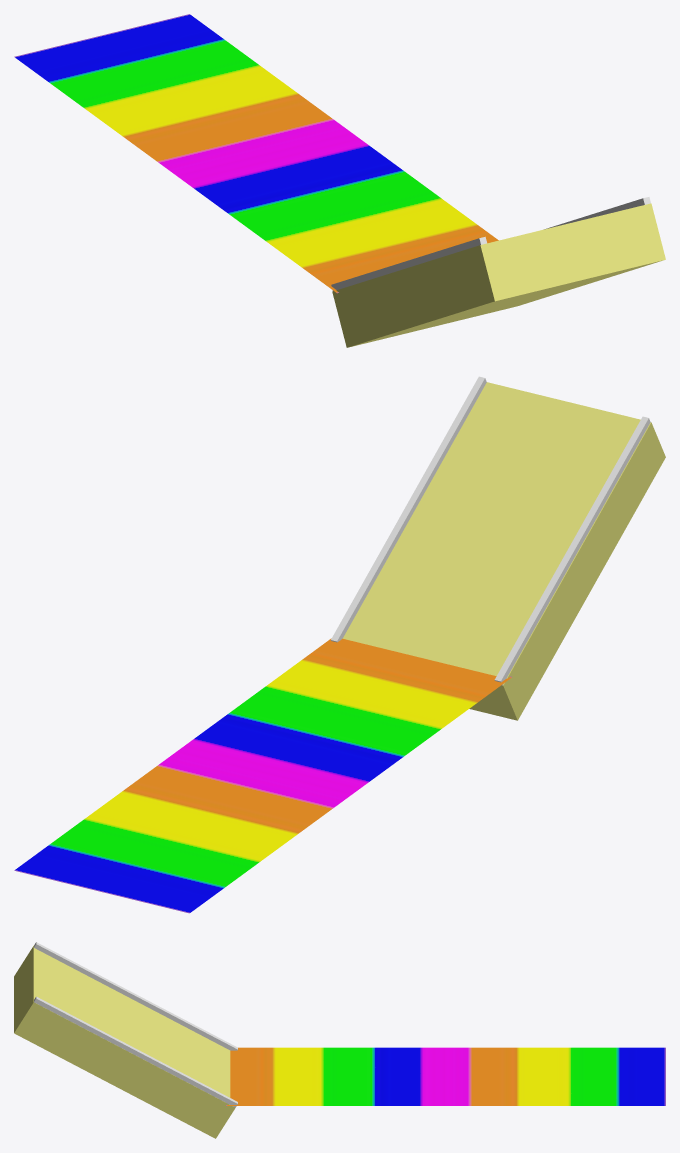
Rendered from win_model.fbx.
The picture shows the model from 3 angles, top to bottom: view 1: azimuth 30°, elevation 25°; view 2: azimuth 150°, elevation 25°; view 3: azimuth 270°, elevation 25°; orthographic projection. The views are drawn at different scales.
Parts seen in each view (by area): view 1: pPlane1, pCube4; view 2: pCube4, pPlane1; view 3: pPlane1, pCube4.
Part boxes in pixels (box(x1,y1,x2,y2)): pPlane1: box(14, 14, 498, 293); pCube4: box(331, 197, 665, 347); pCube4: box(331, 376, 665, 720); pPlane1: box(14, 638, 511, 913); pPlane1: box(226, 1047, 665, 1105); pCube4: box(14, 942, 237, 1138).
Bounding box in the file's own units: 3.48 × 3.91 × 16.45.
Materials: 3 (1 with a texture image).
